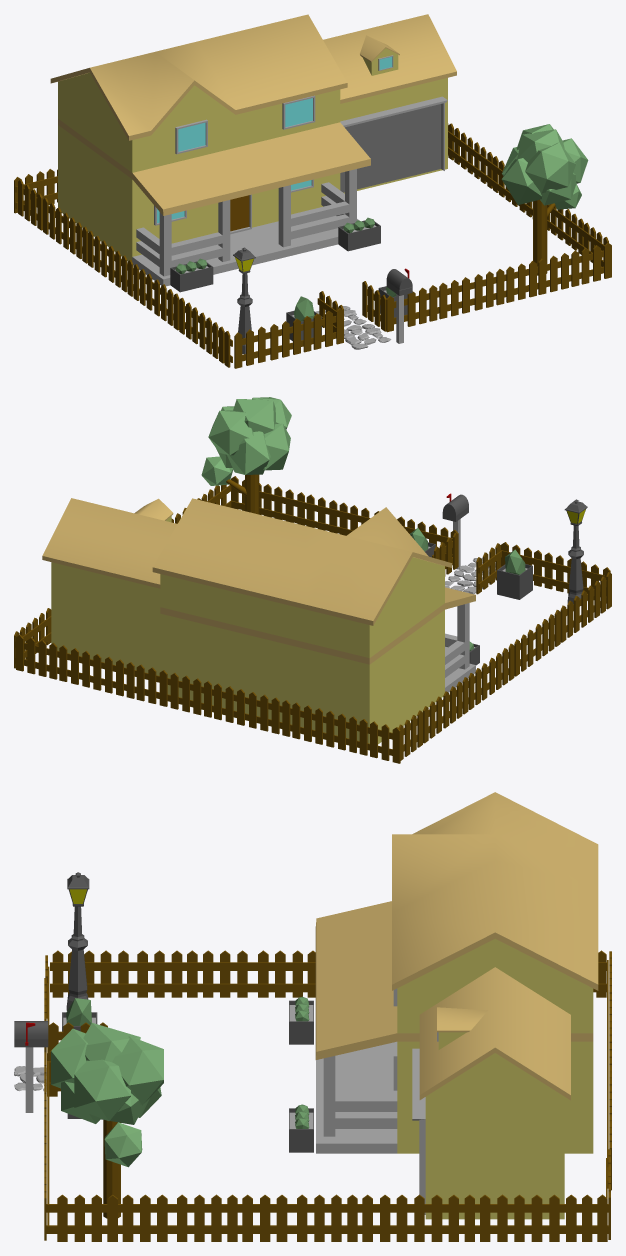
File: eee16.fbx
3 renders of one model, top to bottom at view 1: azimuth 30°, elevation 25°; view 2: azimuth 150°, elevation 25°; view 3: azimuth 270°, elevation 25°, orthographic. The views are drawn at different scales.
Visible parts, largest first — view 1: eee16; view 2: eee16; view 3: eee16.
Boxes of the visible parts, left/top/right/bottom form: eee16: left=14, top=14, right=611, bottom=368; eee16: left=14, top=397, right=611, bottom=763; eee16: left=14, top=792, right=611, bottom=1241.
Bounding box in the file's own units: 25.08 × 11.09 × 25.71.
